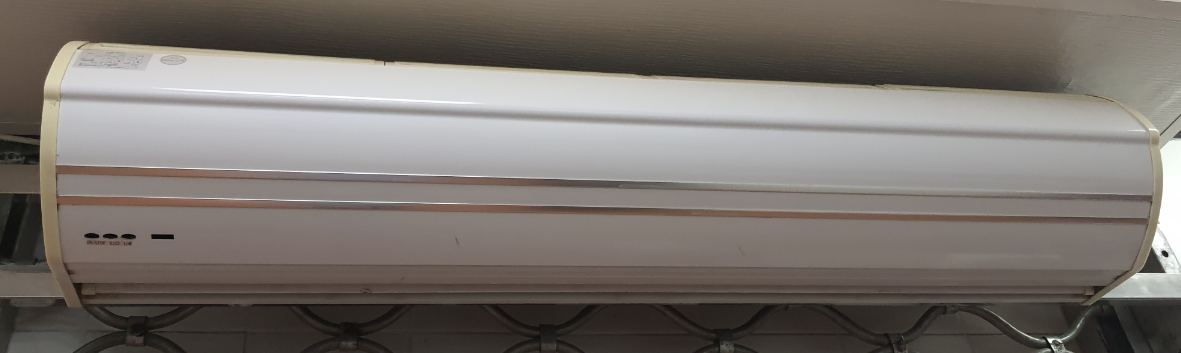Air Curtain: (34, 33, 1167, 328)
